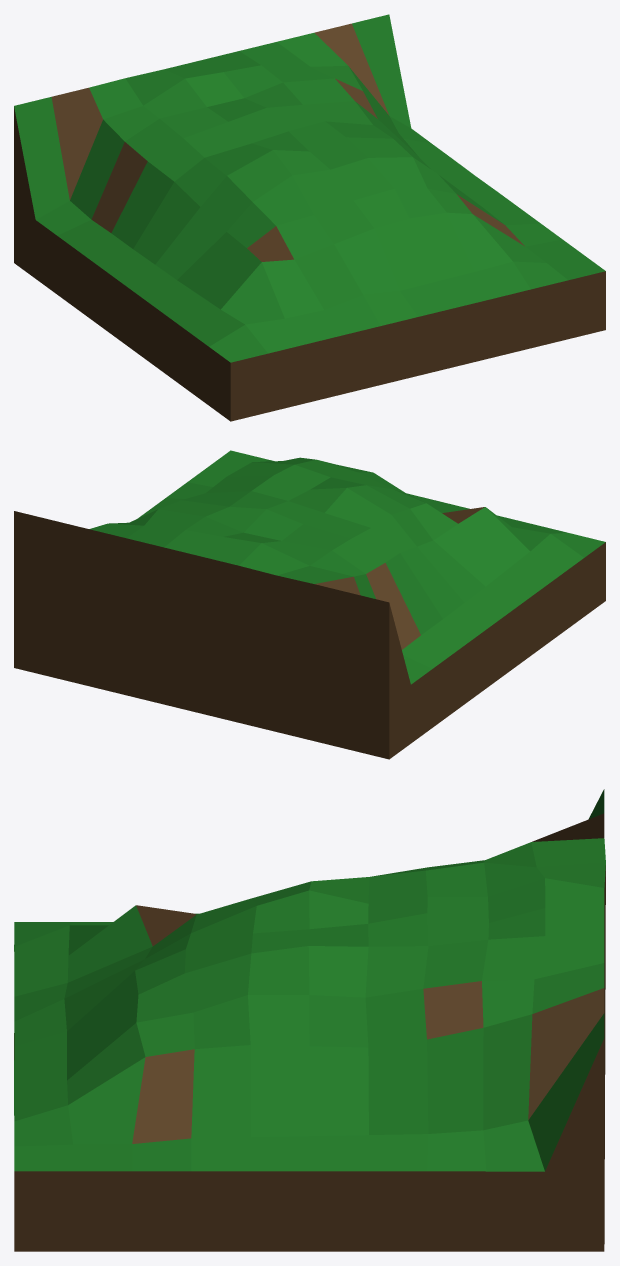
File: Elev_One.fbx
The picture shows the model from 3 angles, top to bottom: view 1: azimuth 30°, elevation 25°; view 2: azimuth 150°, elevation 25°; view 3: azimuth 270°, elevation 25°; orthographic projection. The views are drawn at different scales.
Parts seen in each view (by area): view 1: Elev_One; view 2: Elev_One; view 3: Elev_One.
Part boxes in pixels (left/top/right/bottom): Elev_One: left=14, top=14, right=605, bottom=421; Elev_One: left=14, top=450, right=605, bottom=759; Elev_One: left=14, top=789, right=605, bottom=1251.
Bounding box in the file's own units: 200 × 83.5 × 201.
